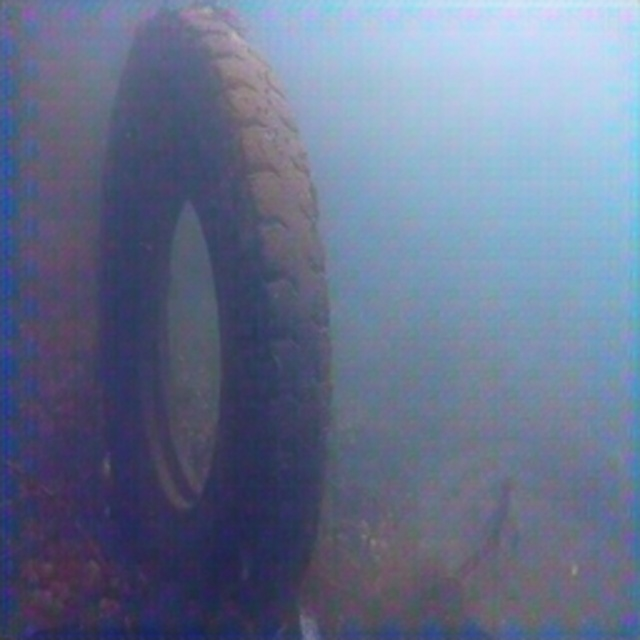mine: (95, 2, 330, 639)
